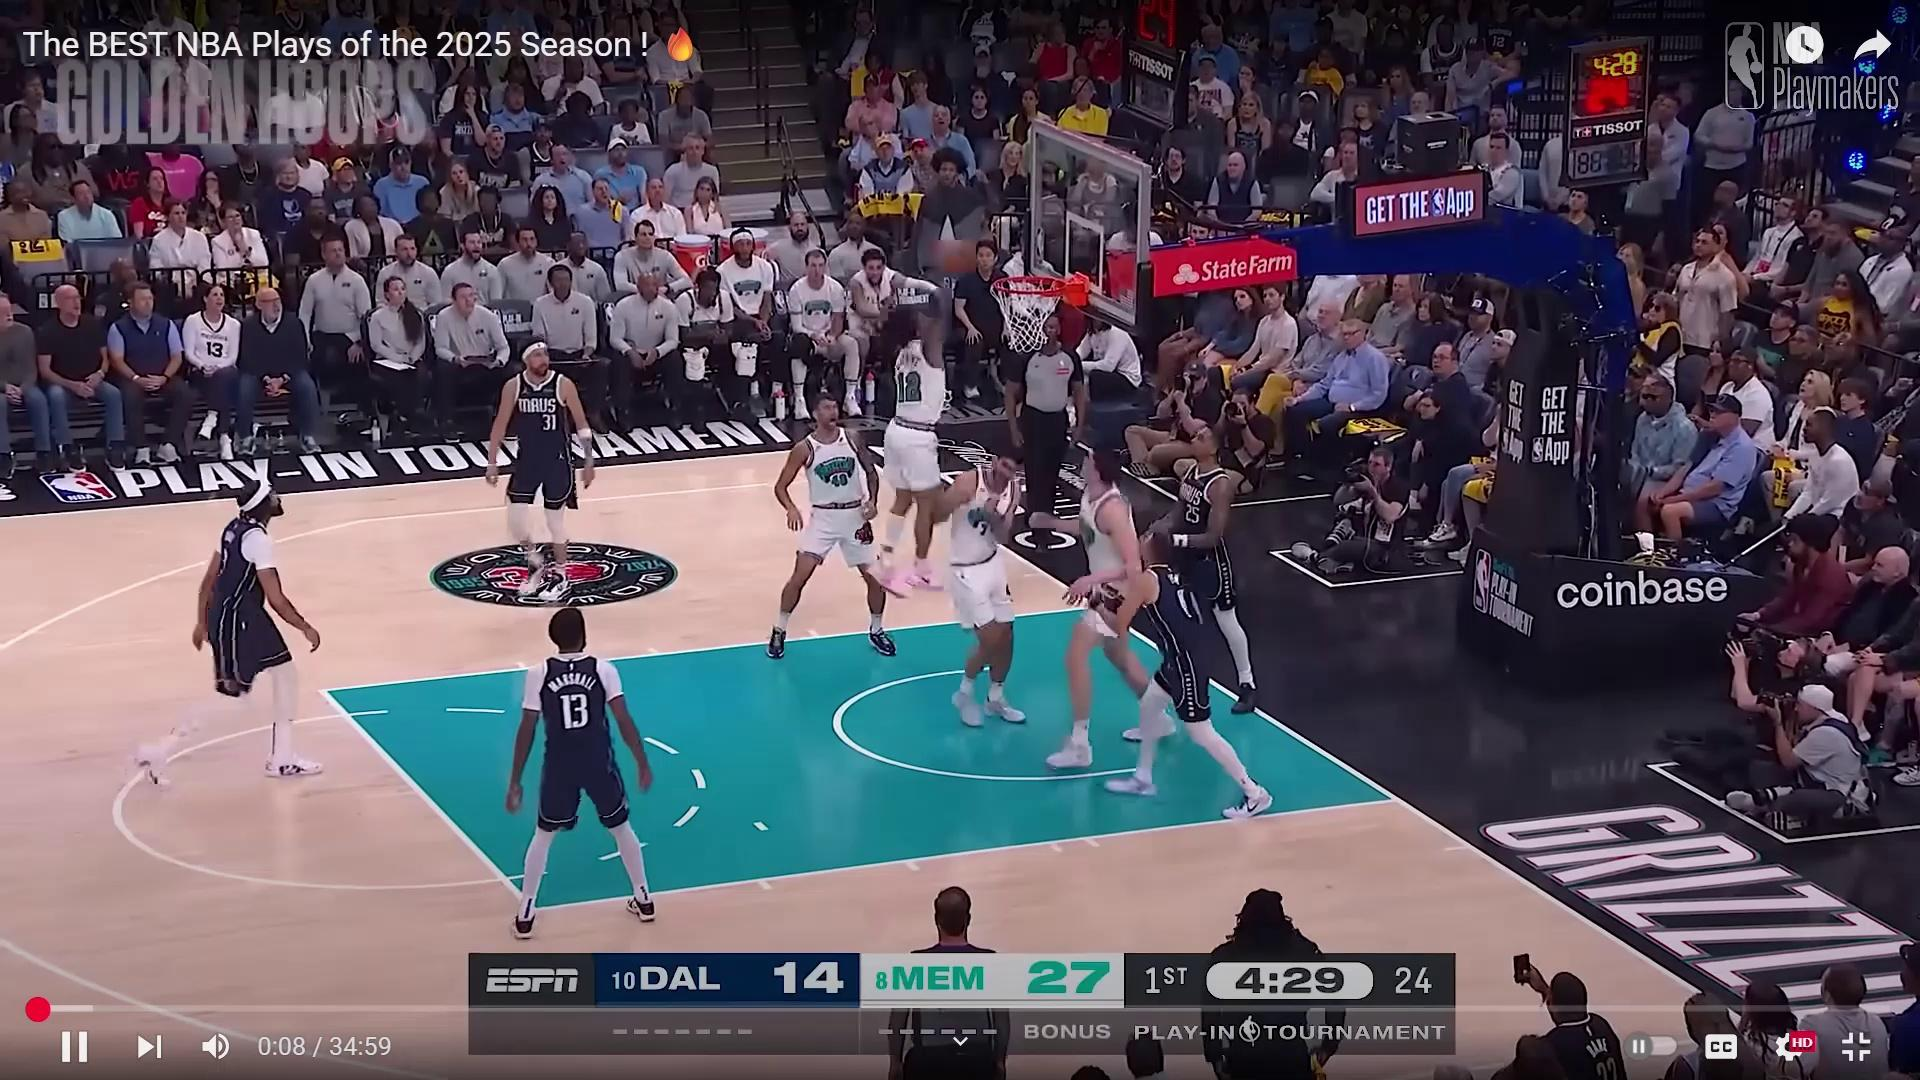ball: (930, 236, 976, 278)
hoop: (988, 248, 1072, 355)
